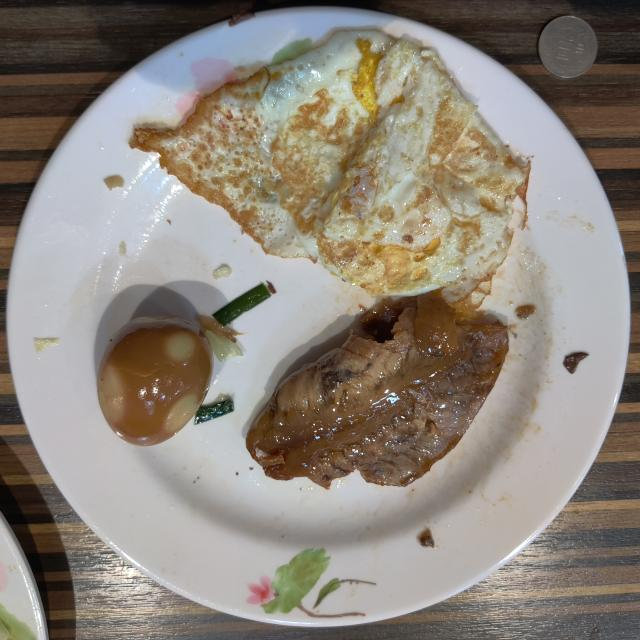Kabayaki sea bream fillet: (246, 294, 508, 488)
coin: (539, 16, 598, 78)
soy egg: (98, 316, 212, 445)
